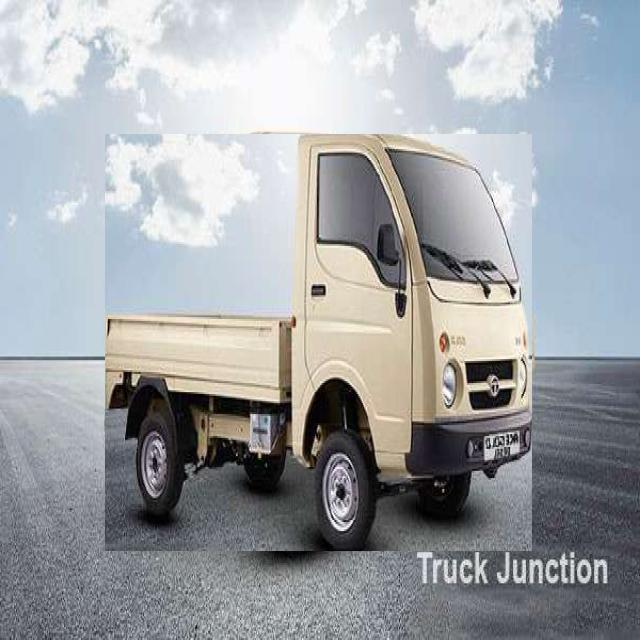truck: (105, 135, 532, 551)
